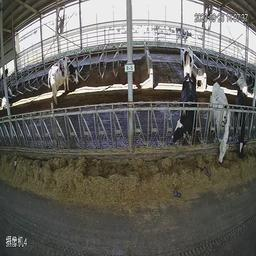cow: (173, 74, 197, 155), (209, 81, 231, 167), (47, 55, 80, 105), (235, 86, 248, 161), (182, 42, 195, 81), (234, 67, 249, 95)
